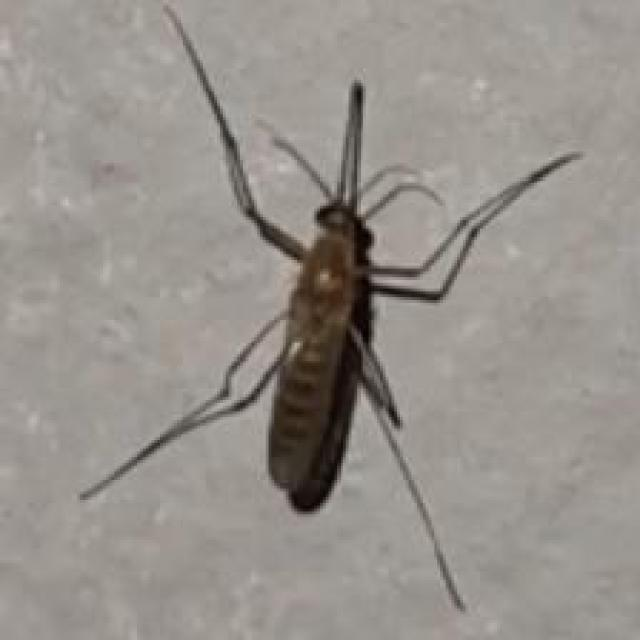Culex: (76, 1, 584, 613)
